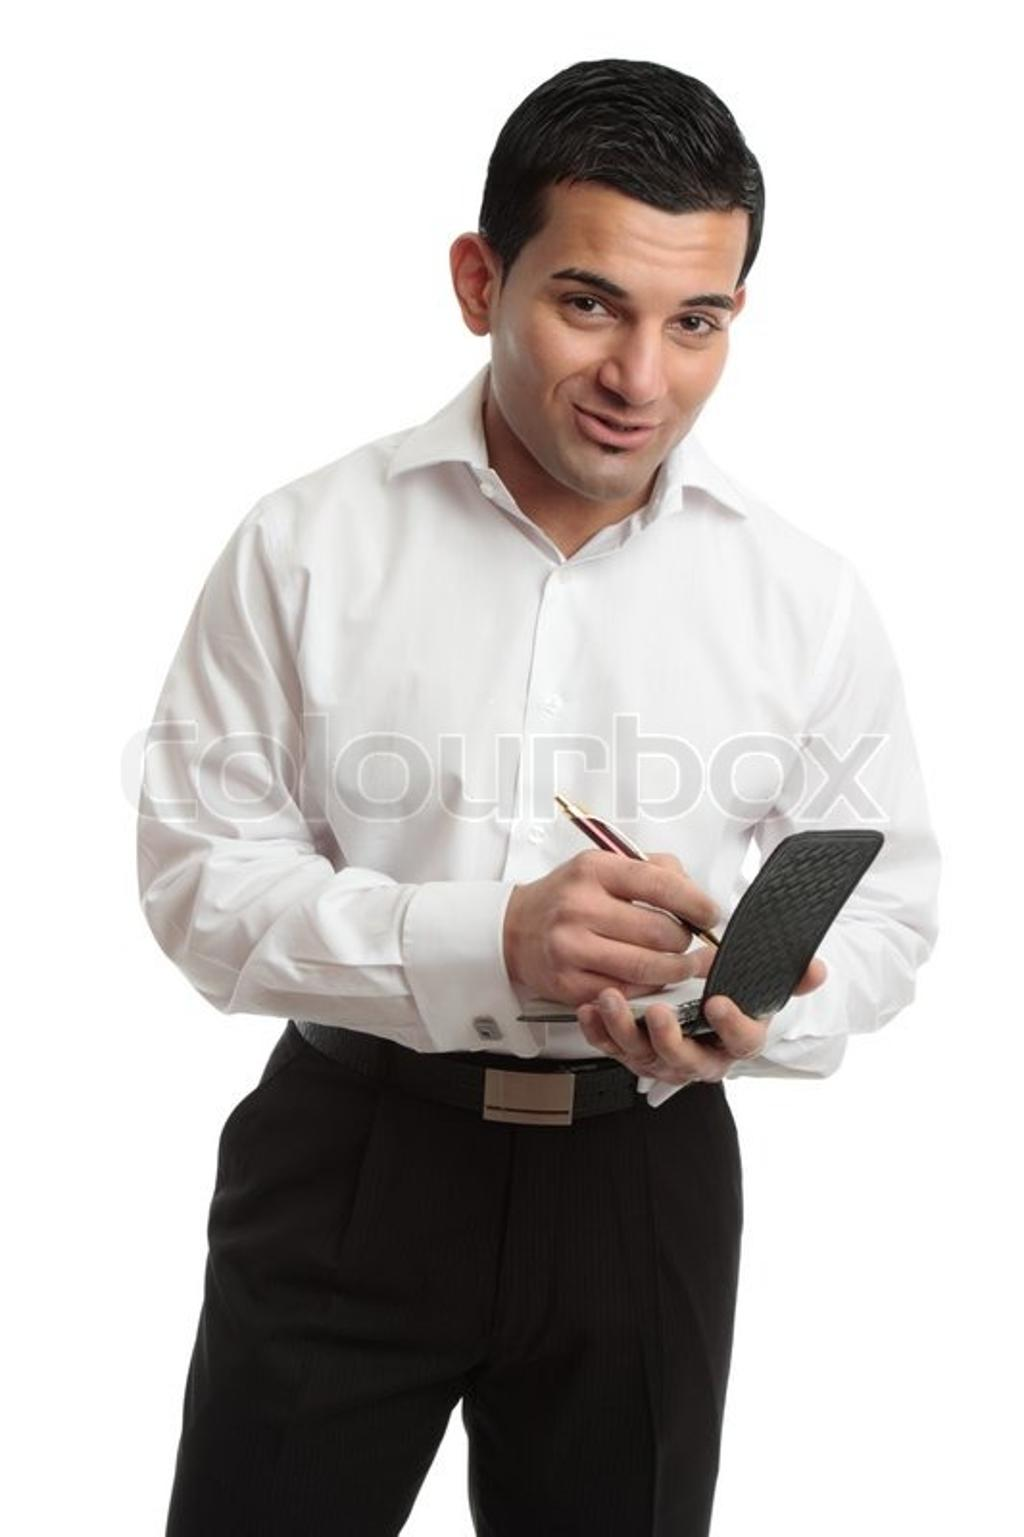face: (498, 192, 759, 501)
